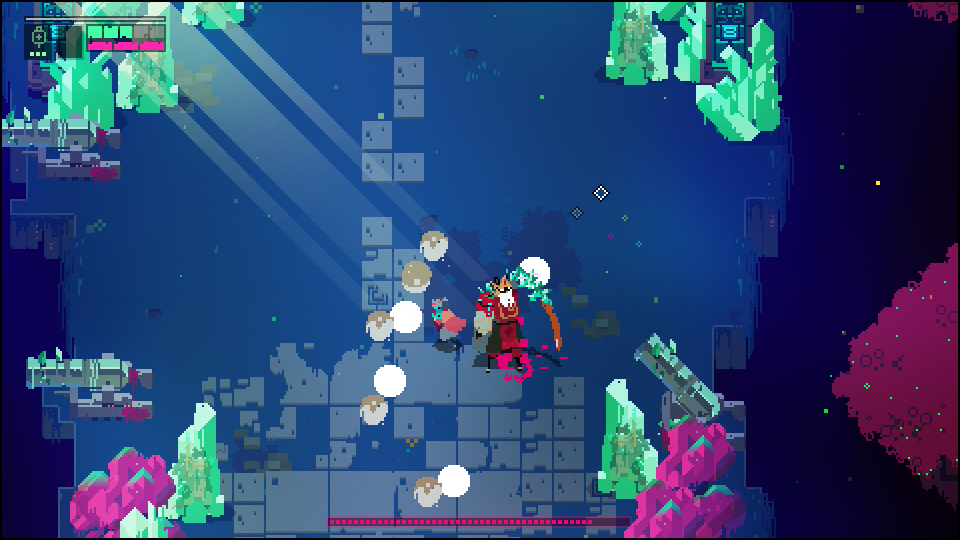hanged_man: (472, 268, 565, 362)
player: (428, 298, 469, 348)
